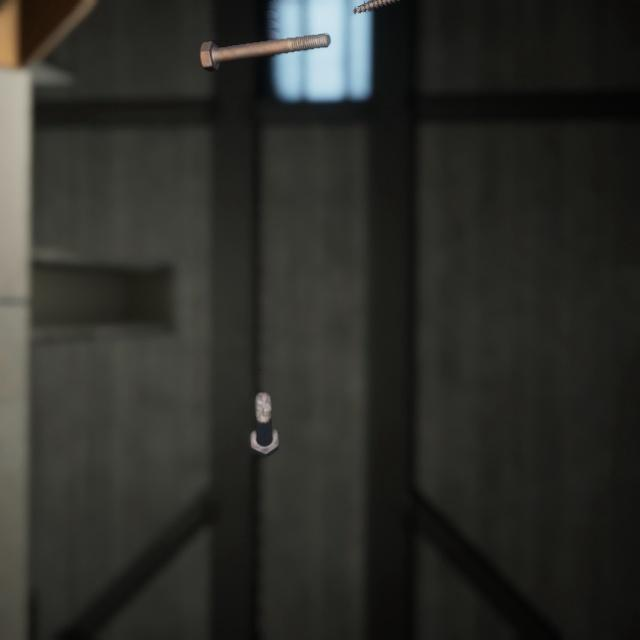bolt: (195, 18, 335, 65), (245, 366, 283, 441)
